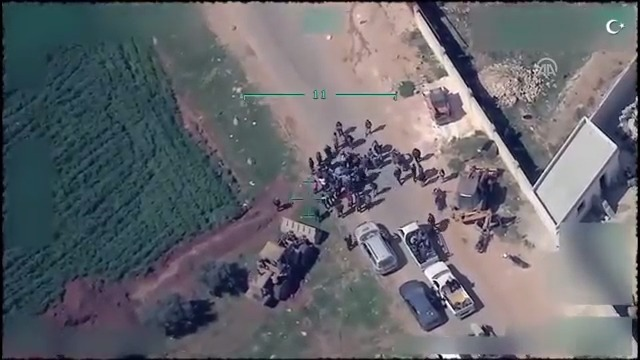arac: (239, 216, 332, 307), (448, 159, 514, 261), (426, 252, 484, 322), (352, 208, 401, 290), (390, 275, 449, 335), (400, 213, 450, 271)
insan: (390, 162, 406, 188), (360, 114, 374, 141), (336, 114, 350, 140), (328, 129, 343, 149), (305, 157, 317, 174), (318, 150, 325, 166)
